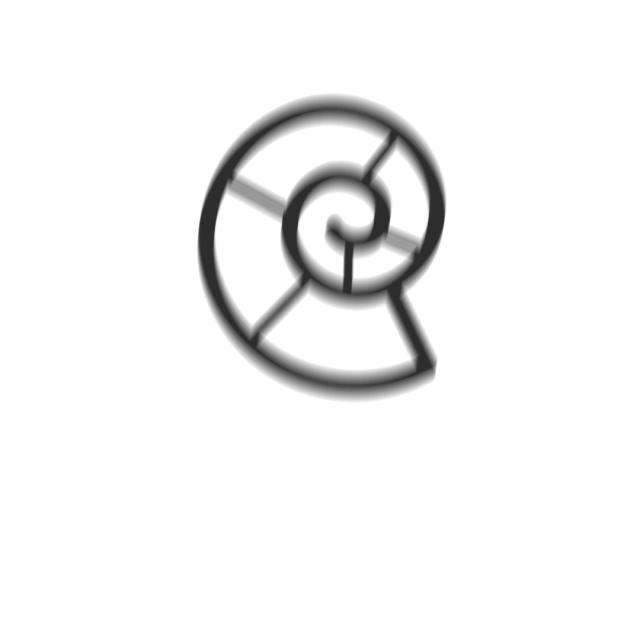fossil: (187, 88, 456, 410)
